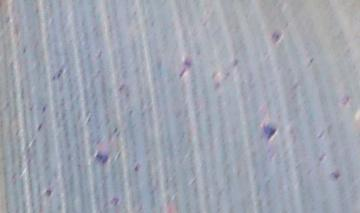tarspot: (90, 148, 113, 166), (176, 55, 194, 78), (259, 122, 279, 139), (51, 65, 65, 81), (41, 185, 55, 198), (269, 29, 282, 41), (330, 168, 340, 183), (39, 102, 47, 116), (131, 162, 141, 173), (35, 120, 43, 133)
